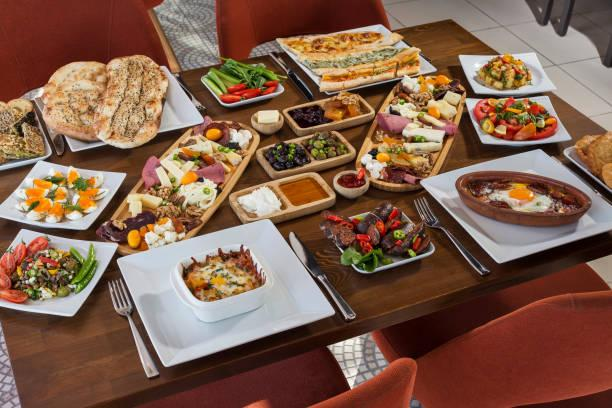Braised Crucian Carp: (118, 218, 334, 368), (418, 148, 609, 263), (115, 110, 259, 251), (53, 65, 201, 152), (366, 57, 461, 191), (278, 24, 429, 95), (1, 229, 118, 317), (0, 159, 125, 231), (329, 206, 432, 273), (463, 95, 570, 146), (458, 52, 557, 96)
